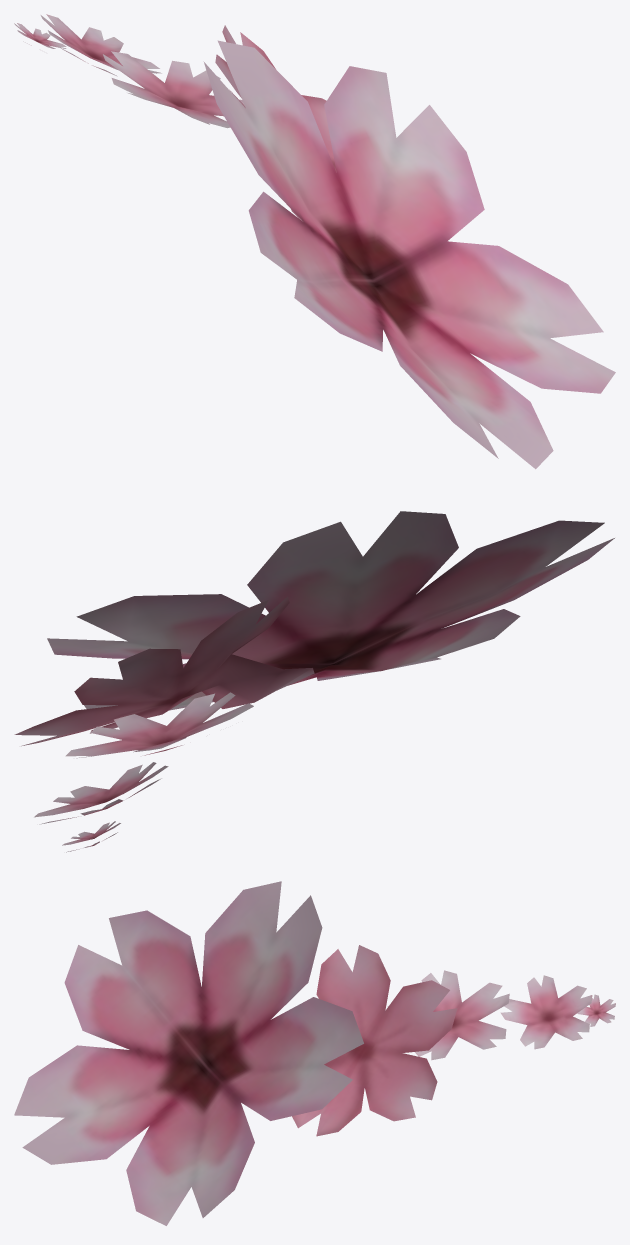
File: japanSakura.glb
The picture shows the model from 3 angles, top to bottom: view 1: azimuth 30°, elevation 25°; view 2: azimuth 150°, elevation 25°; view 3: azimuth 270°, elevation 25°; orthographic projection. The views are drawn at different scales.
Visible parts, largest first — view 1: japanSakura; view 2: japanSakura; view 3: japanSakura.
Boxes of the visible parts, x1=… form: japanSakura: x1=14, y1=14, x2=615, y2=469; japanSakura: x1=14, y1=511, x2=614, y2=852; japanSakura: x1=14, y1=881, x2=615, y2=1225.
Bounding box in the file's own units: 0.1344 × 0.1058 × 0.2438.
1 material, 1 textured.
